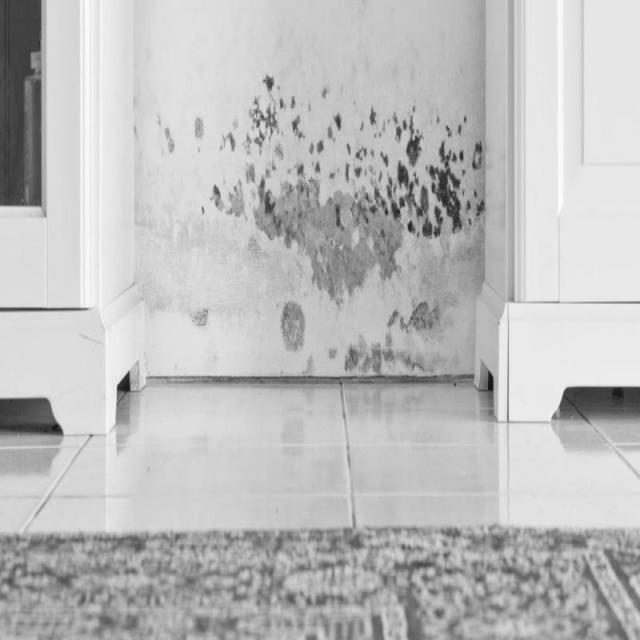stain marks: (135, 32, 494, 400)
